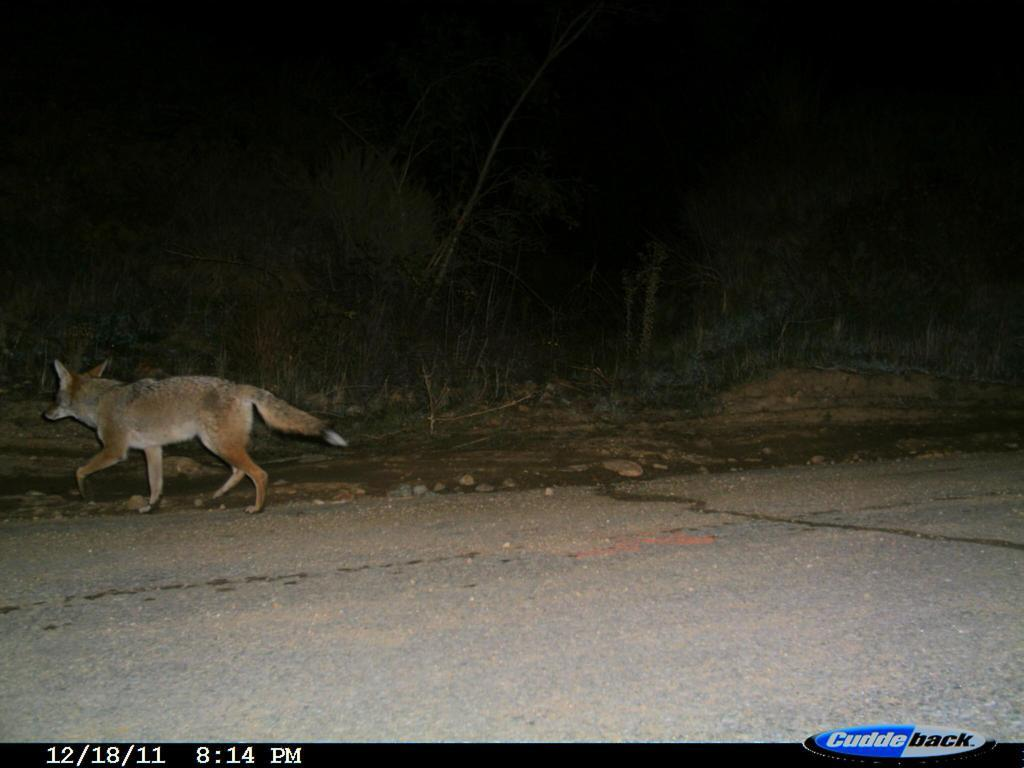coyote: (41, 354, 352, 517)
